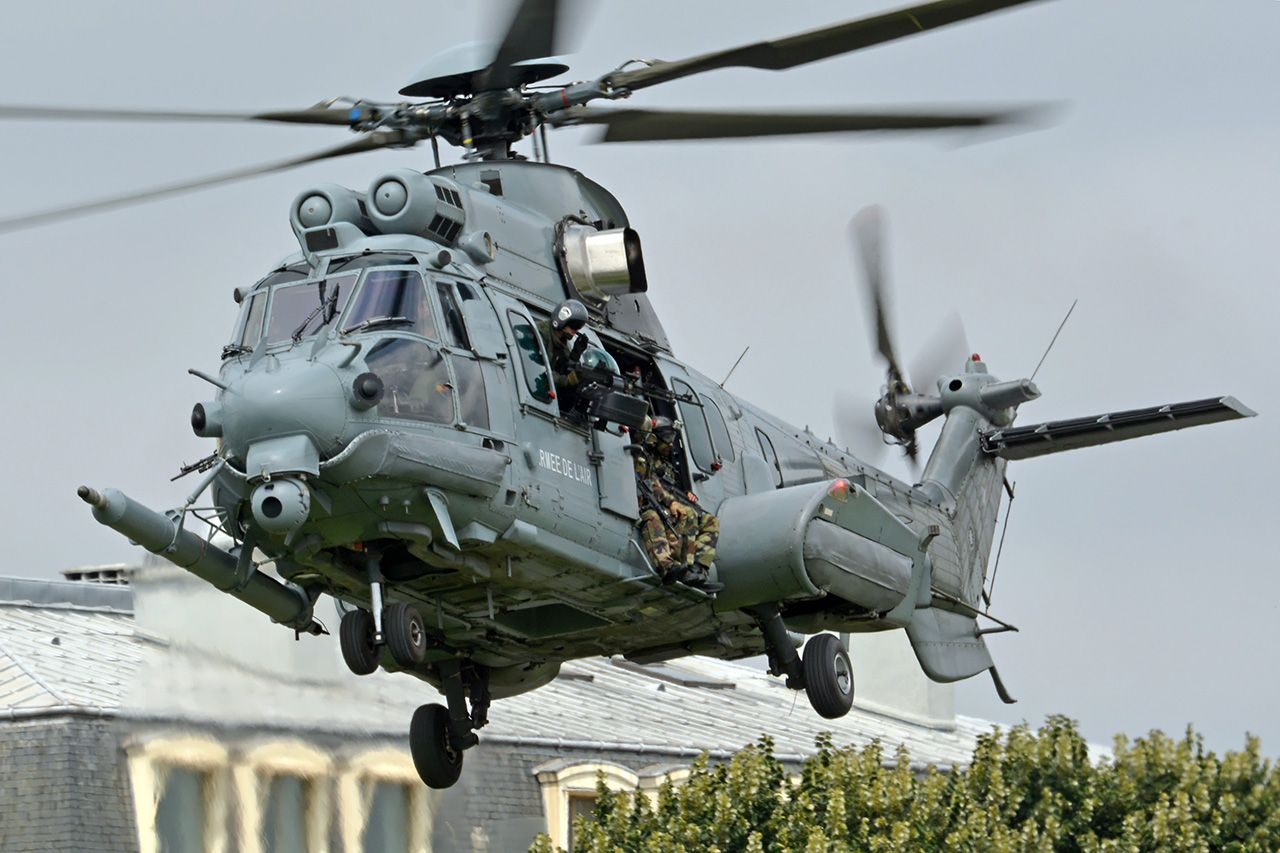Aeronef_militaire: (2, 3, 1276, 809)
